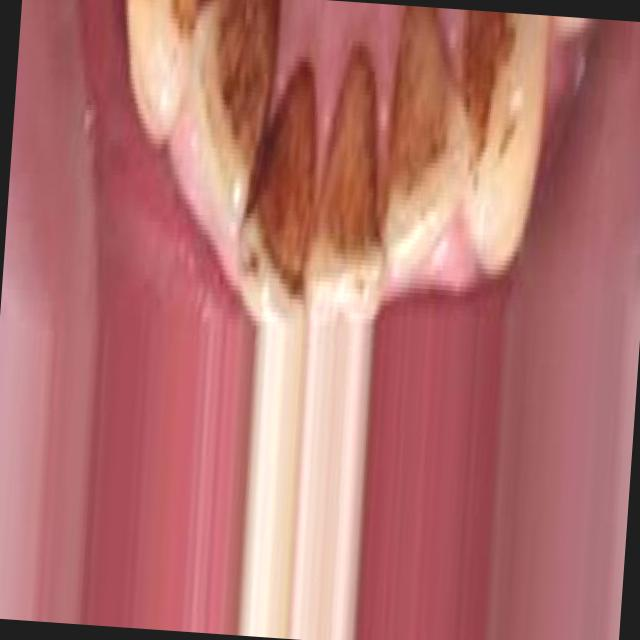calculus: (308, 30, 412, 318), (234, 56, 328, 337), (388, 5, 471, 263), (178, 0, 278, 212), (448, 9, 532, 232)
